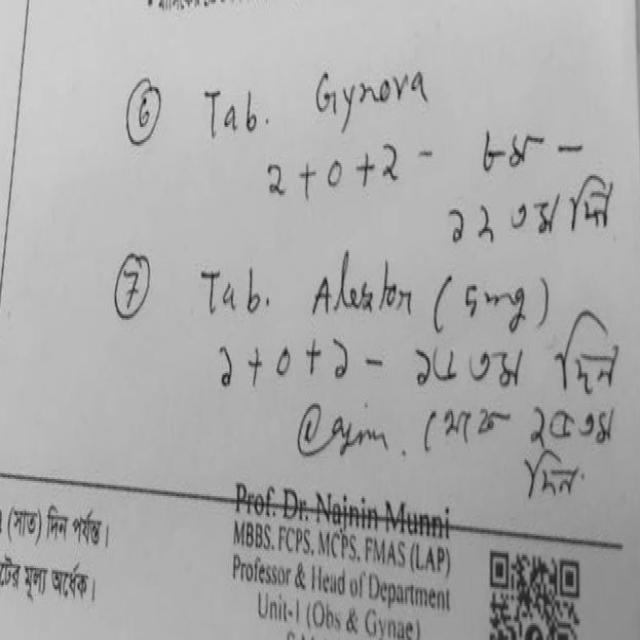medicine: (306, 49, 432, 142), (299, 243, 417, 332)
